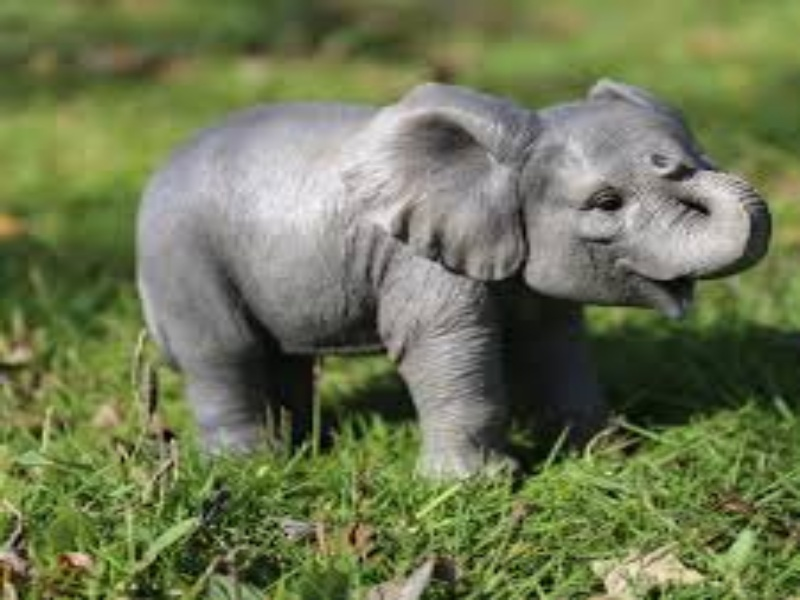elephant: (134, 78, 775, 486)
